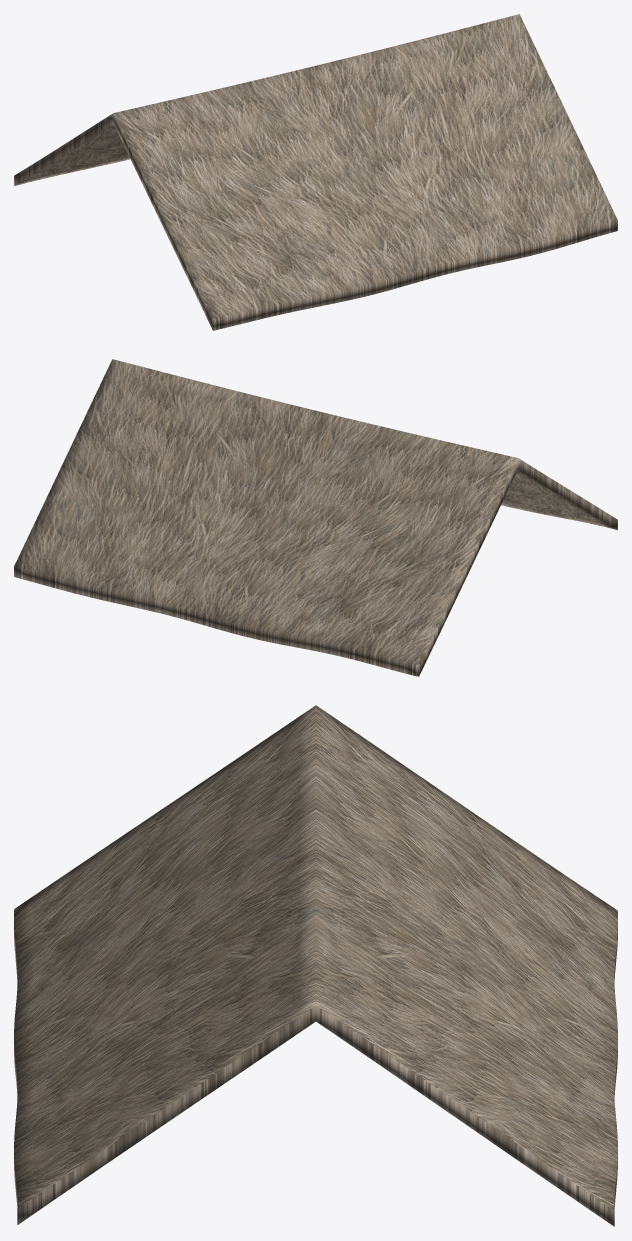
File: BW_Farmhouse01_Thatch.fbx
3 views of the same model, one above another, from view 1: azimuth 30°, elevation 25°; view 2: azimuth 150°, elevation 25°; view 3: azimuth 270°, elevation 25° (orthographic). The views are drawn at different scales.
Parts seen in each view (by area): view 1: BW_Farmhouse01_Thatch; view 2: BW_Farmhouse01_Thatch; view 3: BW_Farmhouse01_Thatch.
Boxes of the visible parts, left/top/right/bottom form: BW_Farmhouse01_Thatch: left=14, top=14, right=617, bottom=330; BW_Farmhouse01_Thatch: left=14, top=359, right=617, bottom=676; BW_Farmhouse01_Thatch: left=14, top=705, right=617, bottom=1226.
Bounding box in the file's own units: 9.76 × 3.4 × 8.29.
